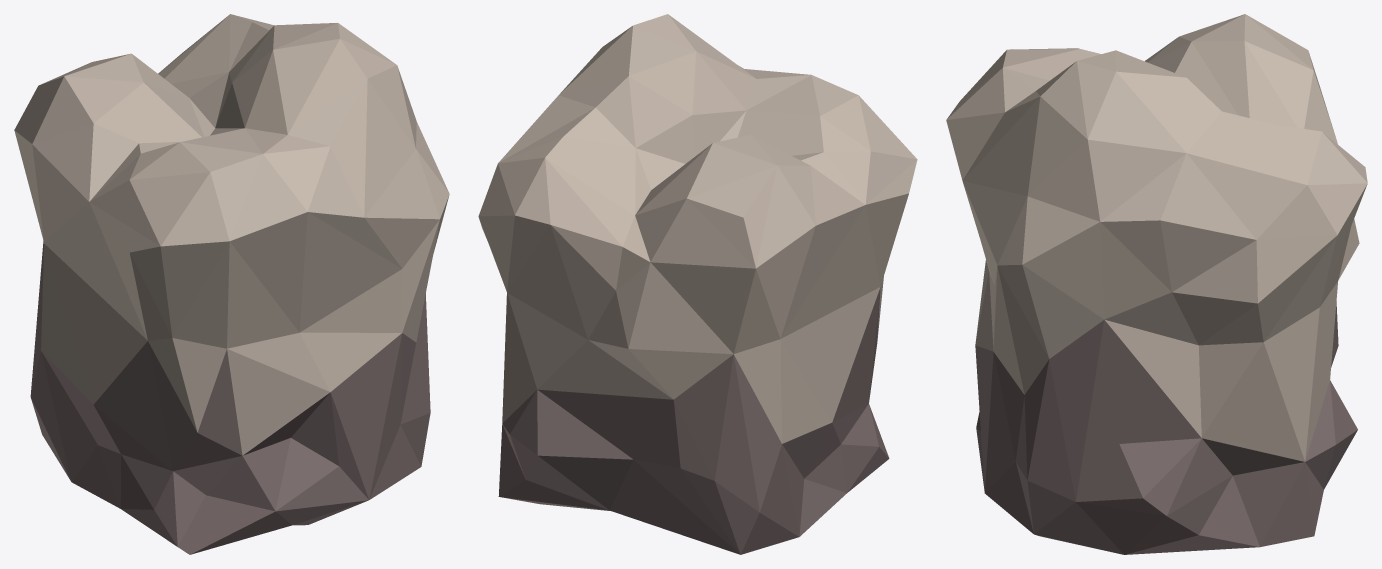
The model's file is Rock.fbx.
3 views of the same model, side by side, from view 1: azimuth 30°, elevation 25°; view 2: azimuth 150°, elevation 25°; view 3: azimuth 270°, elevation 25° (orthographic). The views are drawn at different scales.
Visible parts, largest first — view 1: Rock; view 2: Rock; view 3: Rock.
Boxes of the visible parts, x1,y1,x2,y2 form: Rock: (14, 14, 449, 554); Rock: (478, 14, 917, 554); Rock: (946, 14, 1367, 554).
Bounding box in the file's own units: 119 × 153 × 124.
